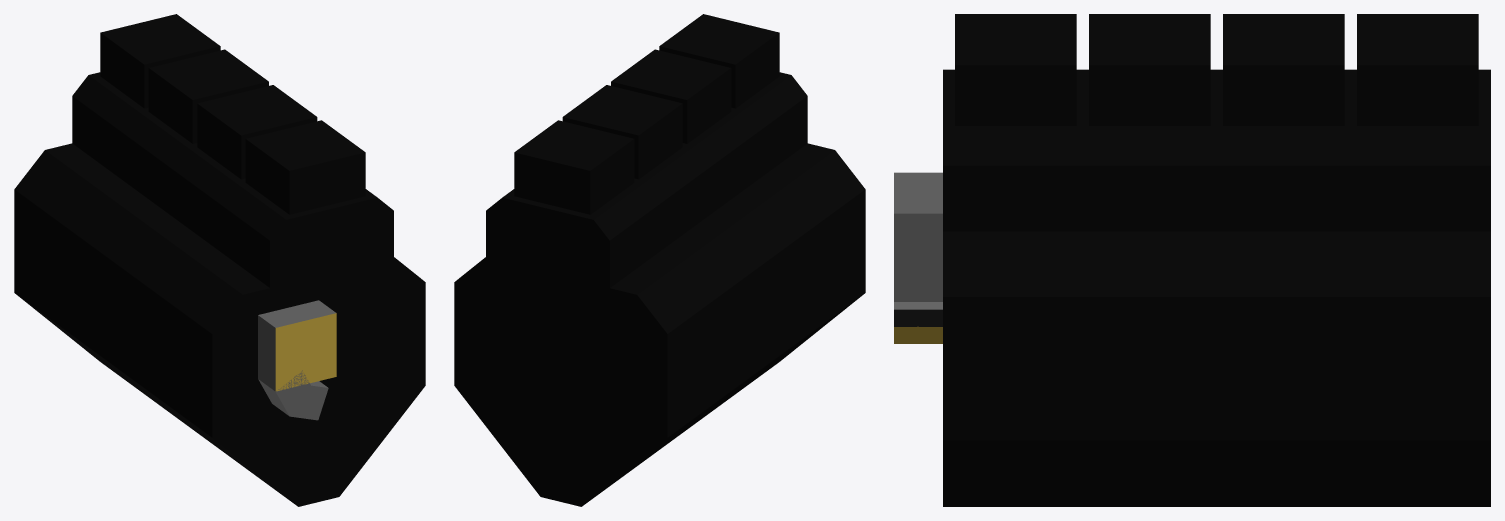
Rendered from v4turbo.obj.
3 renders of one model, left to right at view 1: azimuth 30°, elevation 25°; view 2: azimuth 150°, elevation 25°; view 3: azimuth 270°, elevation 25°, orthographic. The views are drawn at different scales.
Parts seen in each view (by area): view 1: cube, turbo; view 2: cube; view 3: cube, turbo.
Boxes of the visible parts, x1,y1,x2,y2 form: cube: [14, 14, 425, 506]; turbo: [258, 300, 336, 420]; cube: [454, 14, 865, 506]; cube: [943, 14, 1490, 506]; turbo: [894, 172, 942, 343].
Bounding box in the file's own units: 0.428 × 0.6403 × 0.749.
